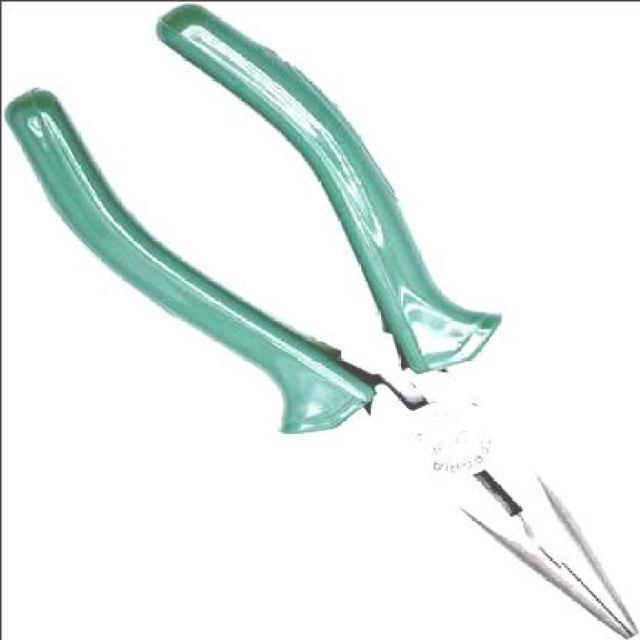pliers: (8, 7, 637, 638)
